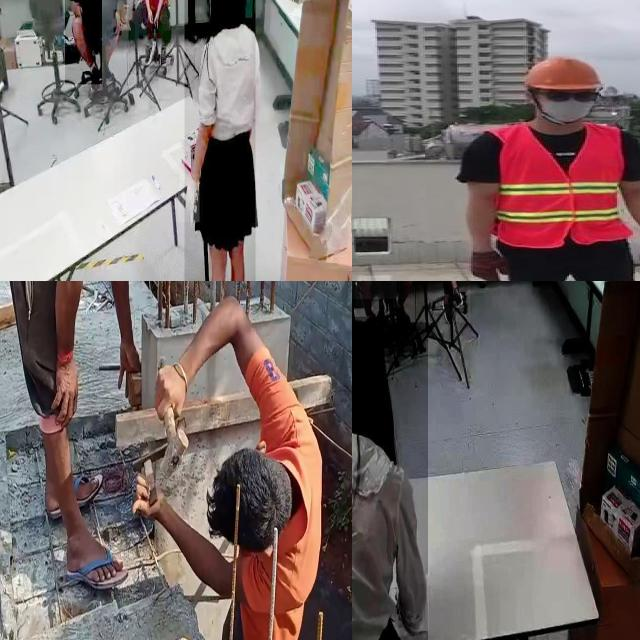Sandals: (61, 505, 126, 590)
hand_glove: (179, 174, 200, 223)
hand_noglove: (50, 333, 80, 430), (152, 356, 192, 416), (114, 10, 122, 36), (146, 7, 154, 26), (153, 12, 159, 34)
head_helmet: (520, 54, 605, 94)
head_nohelmet: (352, 317, 385, 372)
person: (462, 53, 640, 281), (352, 322, 428, 640), (184, 0, 255, 281), (128, 0, 171, 75), (65, 0, 102, 85), (428, 281, 471, 323)
vest: (492, 123, 628, 244)
